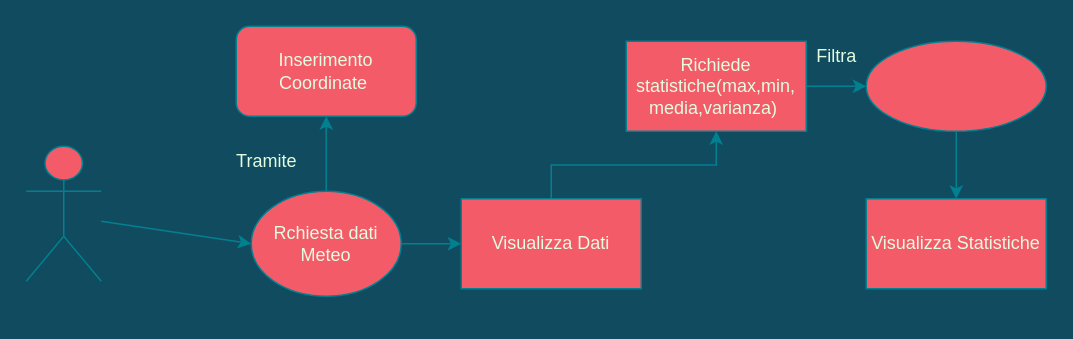
The diagram is 1073 pixels wide and 339 high, and some of its shapes have lost their labels. Each missing label, with the box of its shape:
Per Periodo: (865, 40, 1046, 131)
Utente: (25, 145, 101, 281)
